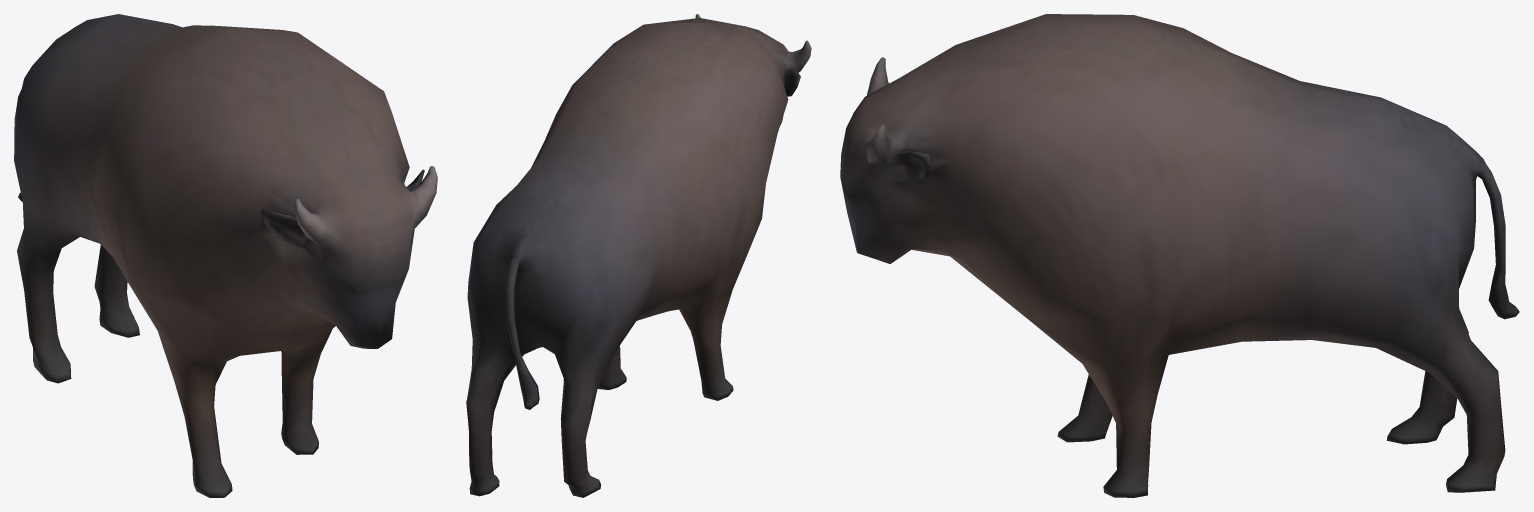
Rendered from Buffalo.glb.
The picture shows the model from 3 angles, left to right: view 1: azimuth 30°, elevation 25°; view 2: azimuth 150°, elevation 25°; view 3: azimuth 270°, elevation 25°; orthographic projection. The views are drawn at different scales.
Parts seen in each view (by area): view 1: low; view 2: low; view 3: low.
Boxes of the visible parts, x1=… form: low: x1=14, y1=14, x2=437, y2=497; low: x1=466, y1=14, x2=811, y2=497; low: x1=840, y1=14, x2=1519, y2=497.
Bounding box in the file's own units: 1.92 × 3.29 × 4.6.
1 material, 1 textured.
